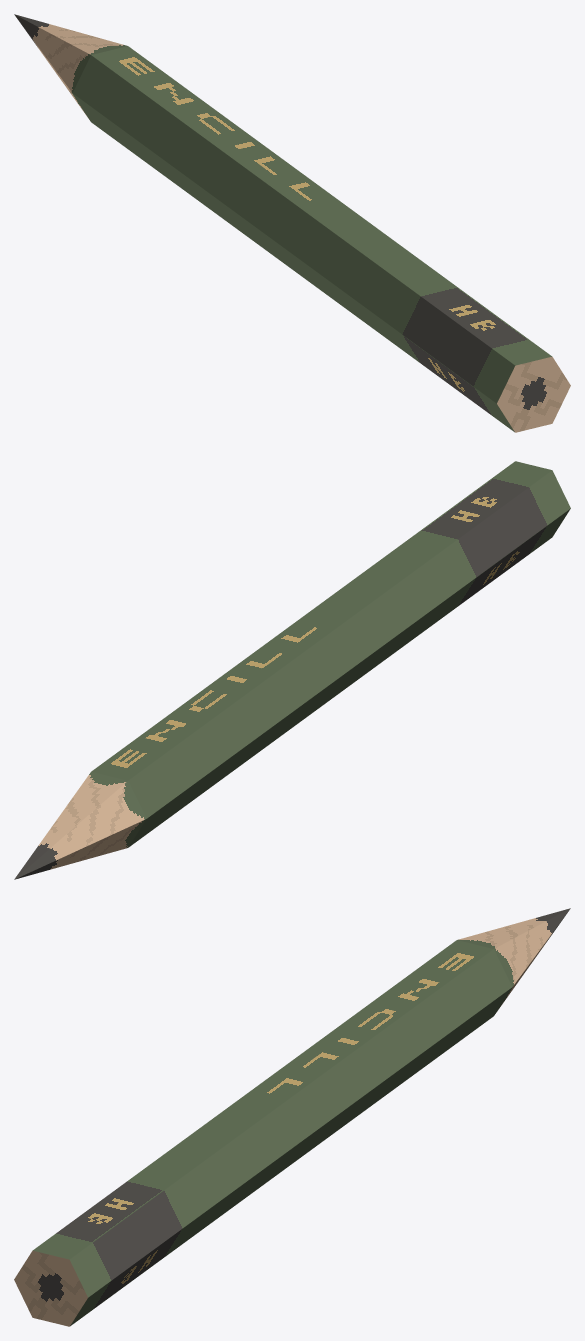
Rendered from 038f_2_Pencil.glb.
The picture shows the model from 3 angles, top to bottom: view 1: azimuth 30°, elevation 25°; view 2: azimuth 150°, elevation 25°; view 3: azimuth 330°, elevation 25°; orthographic projection.
Parts seen in each view (by area): view 1: part_0; view 2: part_0; view 3: part_0.
Part boxes in pixels (x1,y1,x2,y2): part_0: [14, 14, 570, 432]; part_0: [14, 461, 570, 879]; part_0: [14, 908, 570, 1326].
Size of the model in its own units: 0.008 by 0.00693 by 0.0972.
Materials: 1 (1 with a texture image).
